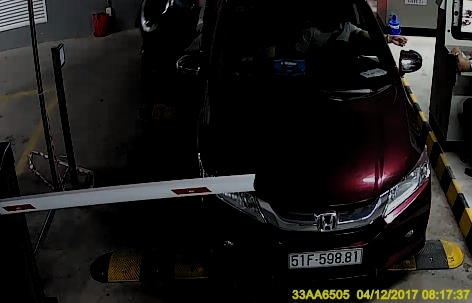plate: (284, 247, 367, 269)
